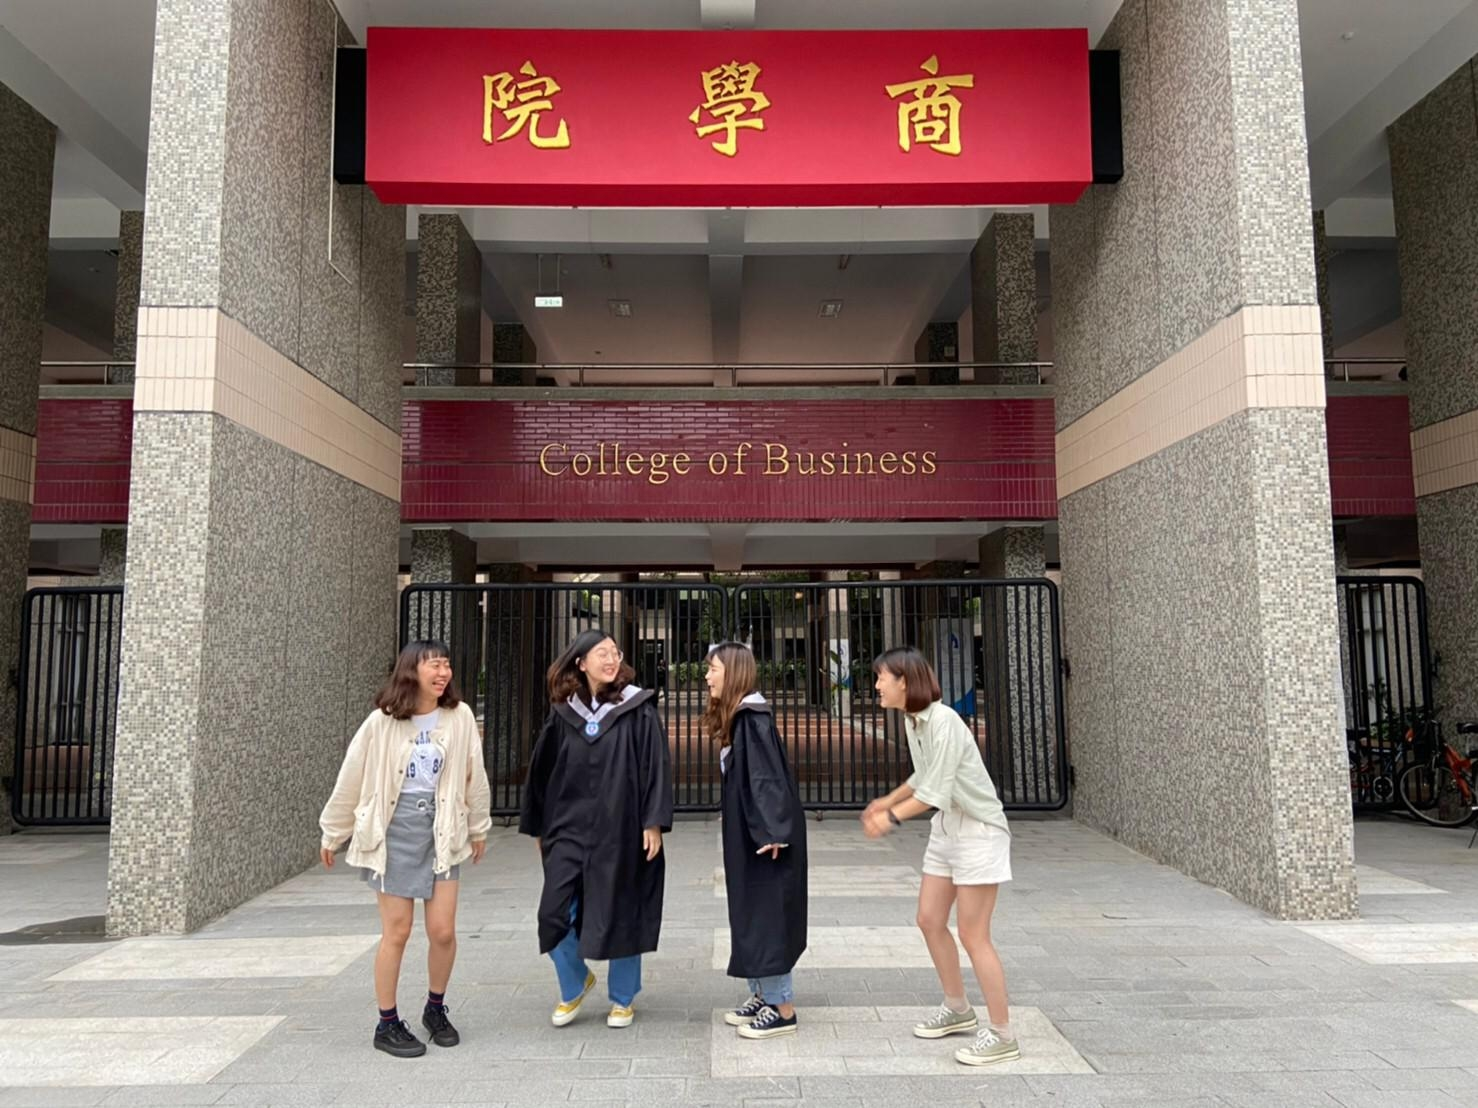people: (863, 650, 1025, 1065), (544, 625, 646, 1025), (702, 640, 796, 1038), (371, 648, 452, 1050)
